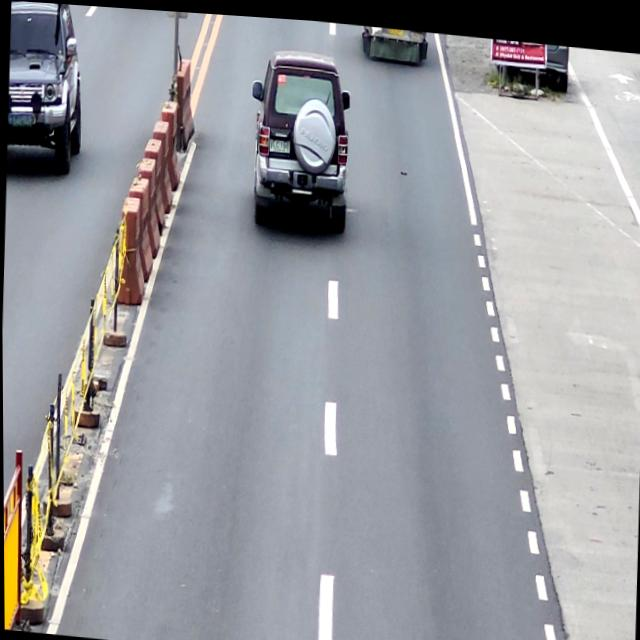Car: (247, 39, 353, 231)
License-Plate: (268, 135, 290, 150)
